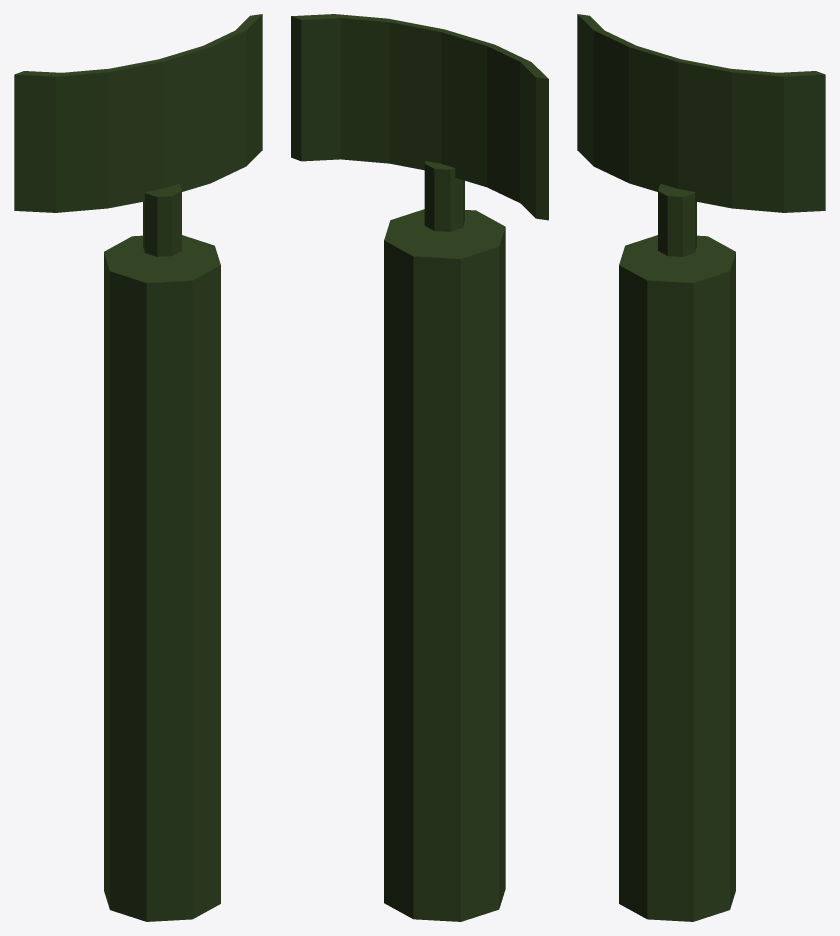
File: radar.glb
The picture shows the model from 3 angles, left to right: view 1: azimuth 30°, elevation 25°; view 2: azimuth 150°, elevation 25°; view 3: azimuth 330°, elevation 25°; orthographic projection. The views are drawn at different scales.
Parts seen in each view (by area): view 1: Radar_Stand, HorizontalA; view 2: Radar_Stand, HorizontalA; view 3: Radar_Stand, HorizontalA.
Boxes of the visible parts, <box> form: Radar_Stand: <box>104,235,220,921</box>; HorizontalA: <box>14,14,262,256</box>; Radar_Stand: <box>384,209,505,921</box>; HorizontalA: <box>291,14,548,231</box>; Radar_Stand: <box>619,235,735,921</box>; HorizontalA: <box>577,14,825,256</box>.
Size of the model in its own units: 9.47 by 30.44 by 4.
